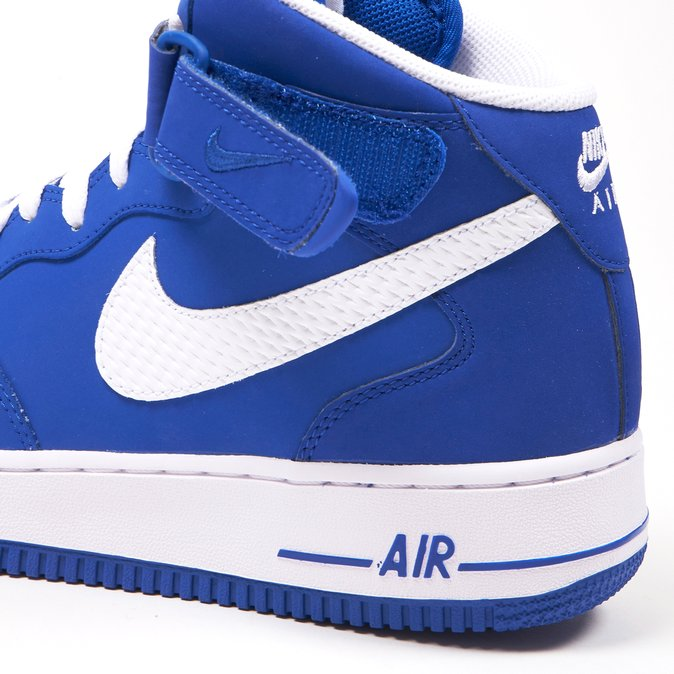Air Force One Blue: (1, 9, 664, 649)
